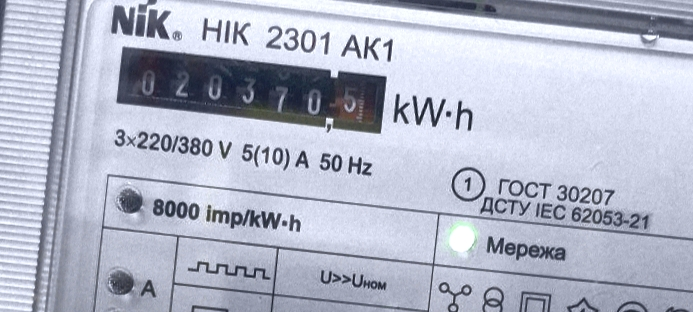0: (302, 85, 323, 117), (137, 65, 157, 96), (204, 70, 222, 100)
2: (170, 67, 192, 99)
3: (237, 73, 256, 104)
5: (339, 82, 360, 115)
7: (269, 82, 287, 114)
screen: (106, 38, 395, 143)
